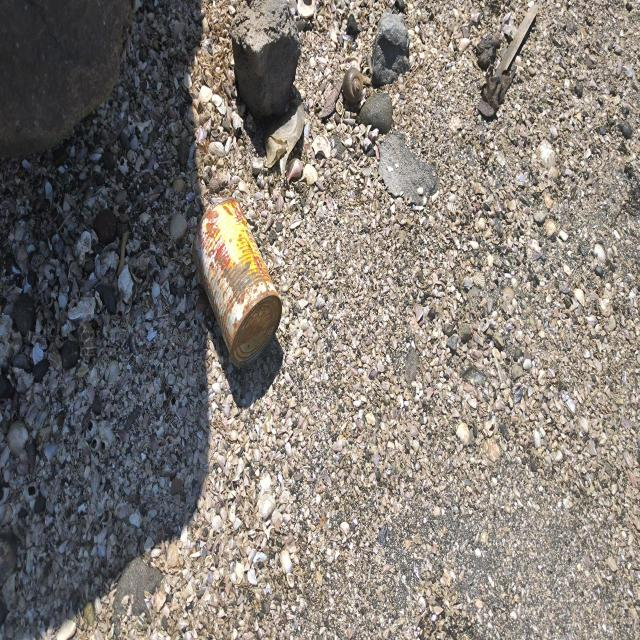metal_waste: (196, 200, 284, 372)
